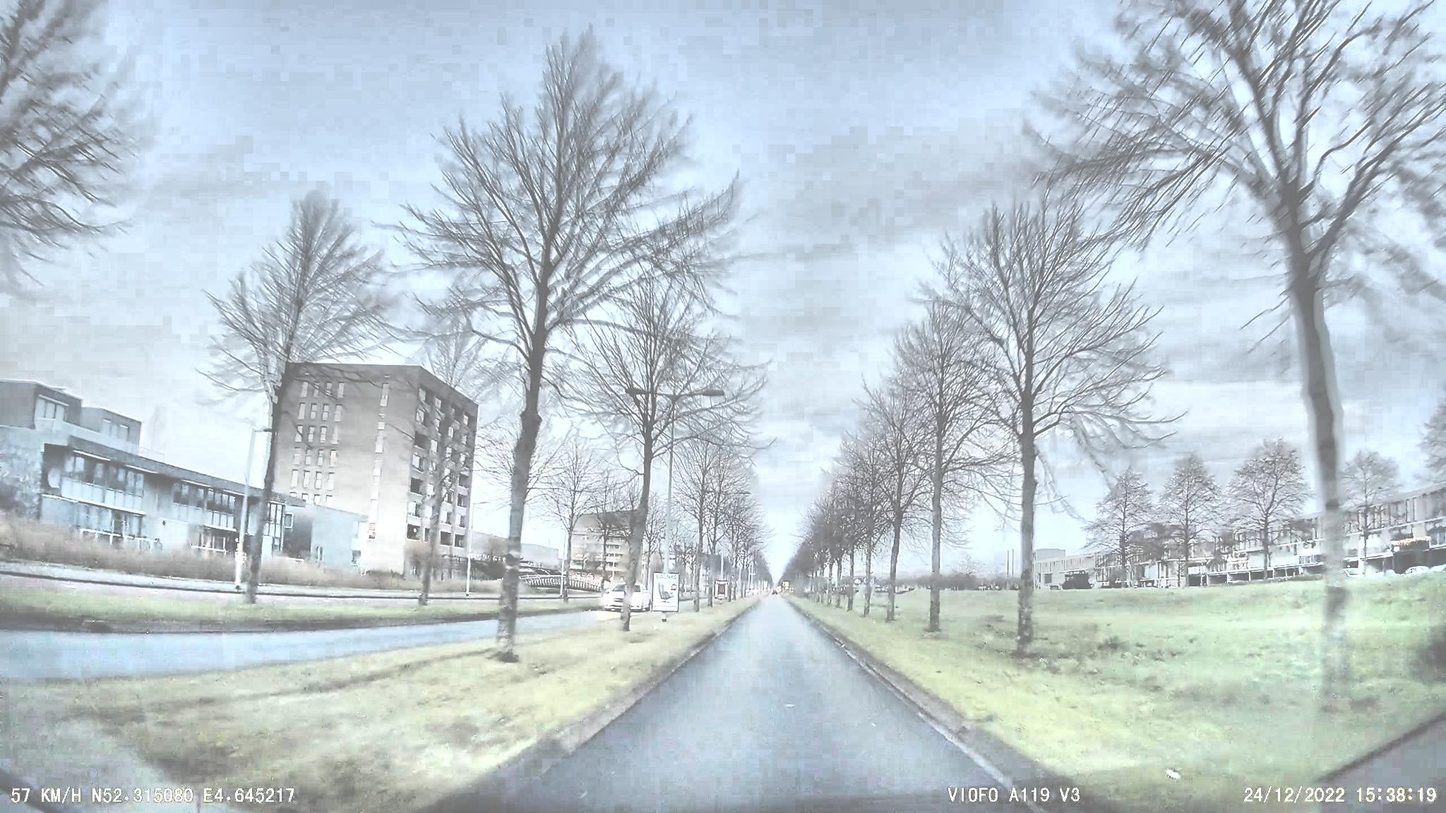Roads: (511, 596, 1011, 813)
